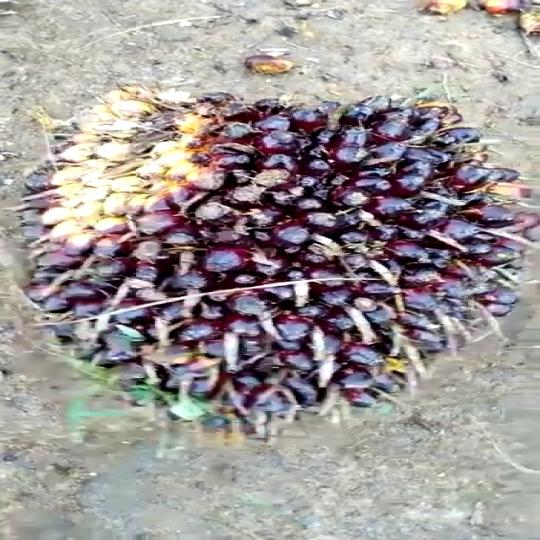mentah: (20, 84, 532, 420)
